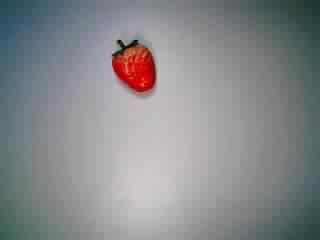strawberry: (102, 33, 161, 102)
